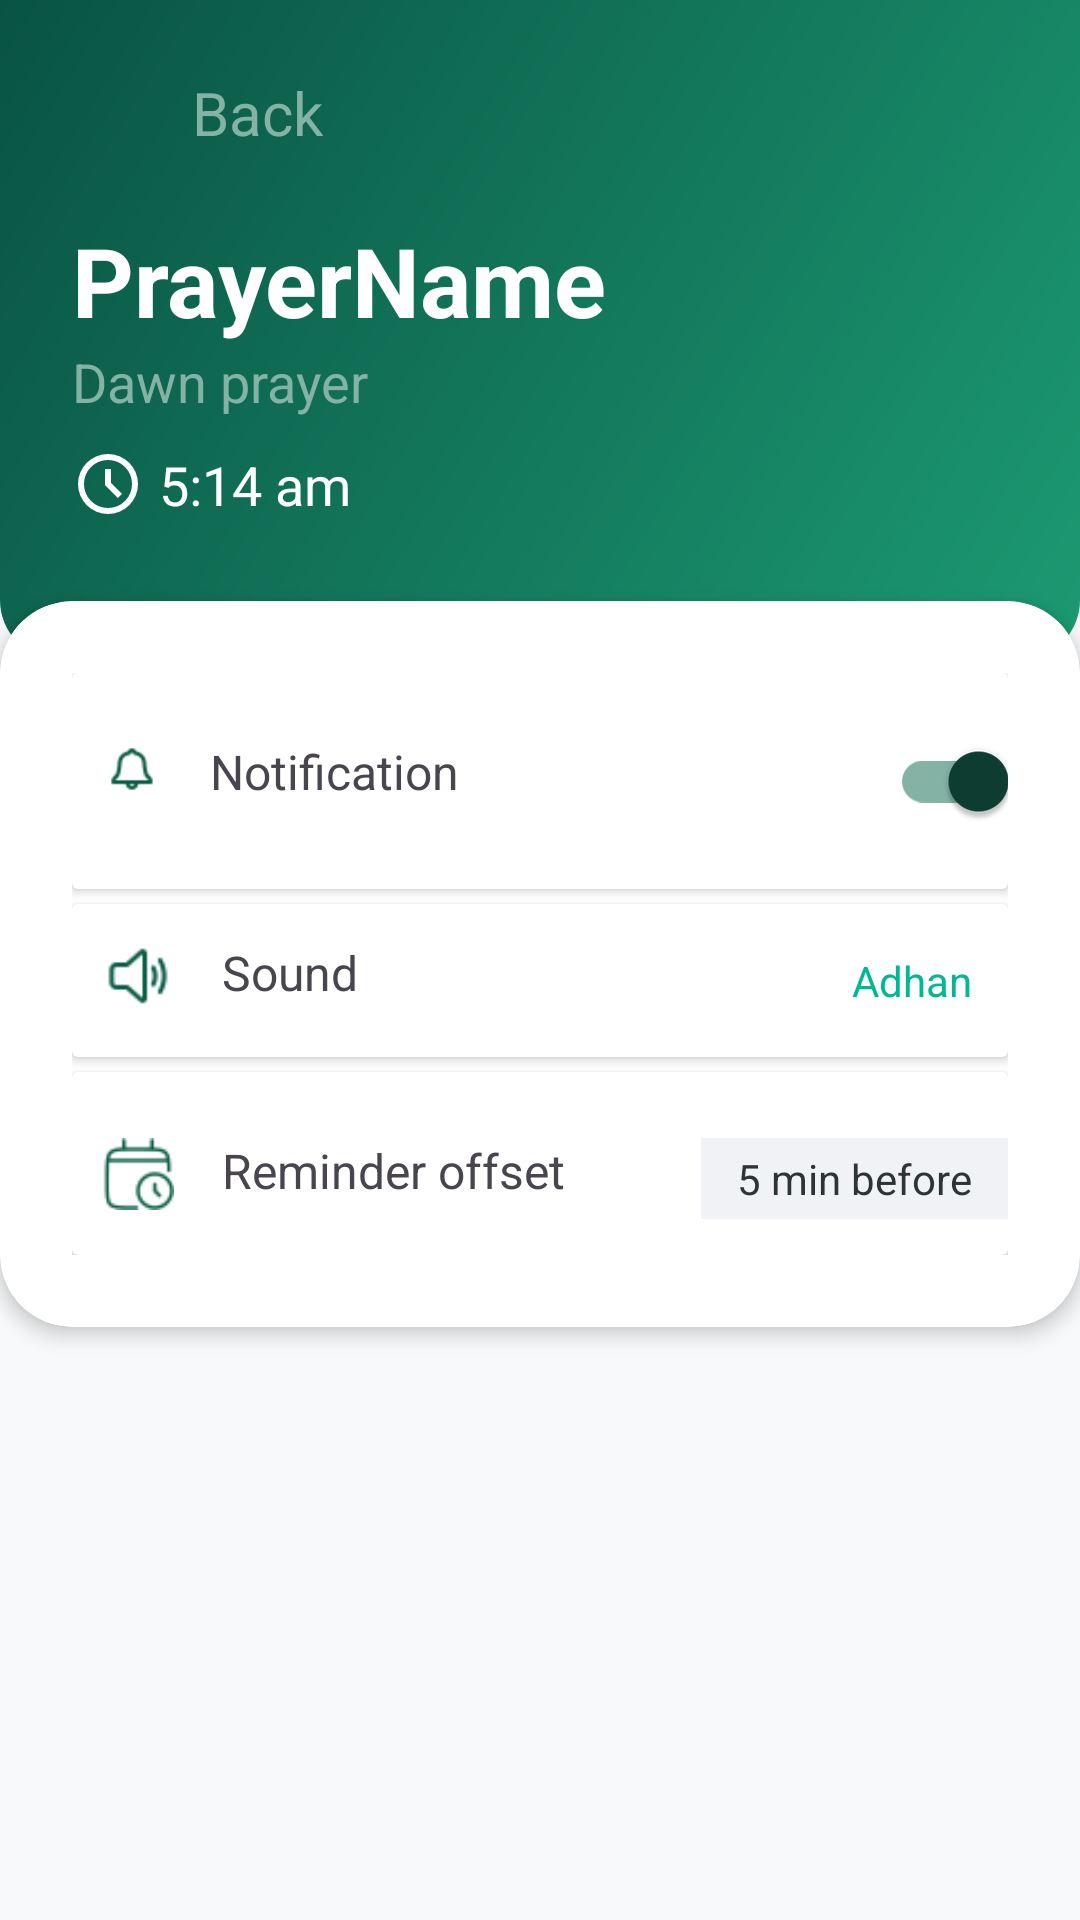

Named icons in this screenshot (1080x1920) and their centers, (x=x, y=y):
bell: (x=132, y=769)
clock: (x=108, y=484)
schedule: (x=139, y=1174)
volume: (x=138, y=976)
